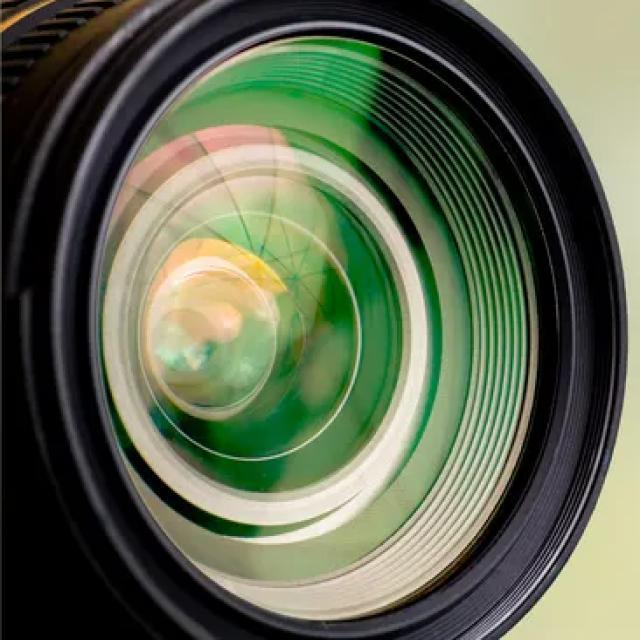hidden camera: (7, 12, 631, 640)
